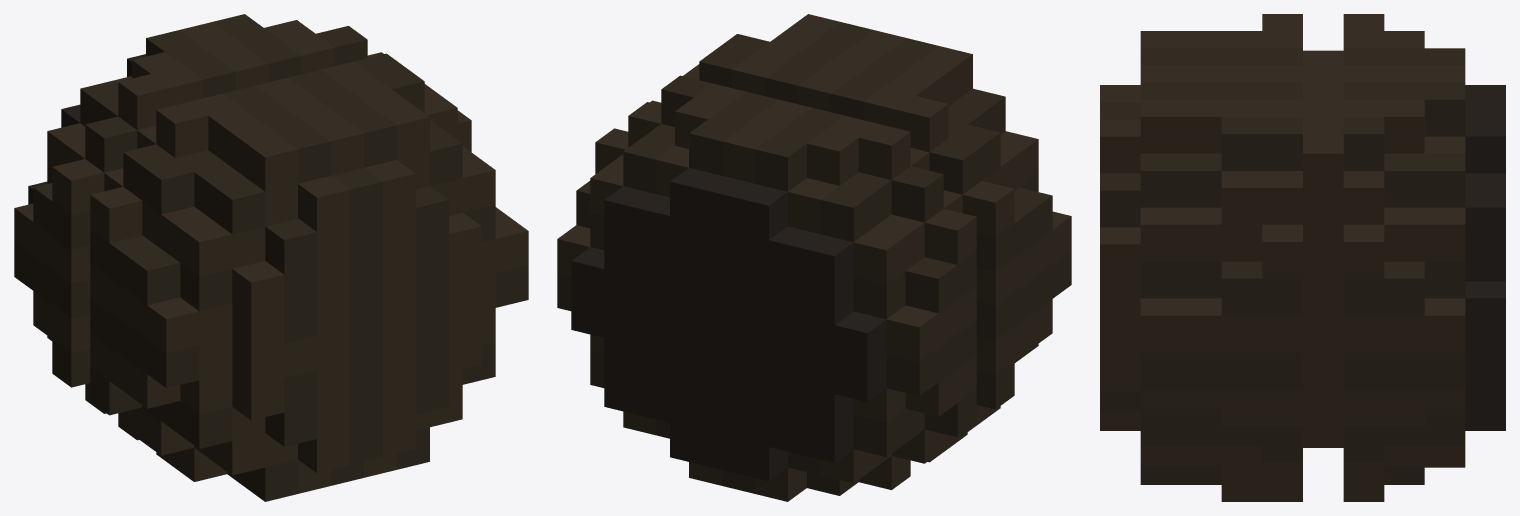
Rendered from tavern-18-keg.obj.
3 renders of one model, left to right at view 1: azimuth 30°, elevation 25°; view 2: azimuth 150°, elevation 25°; view 3: azimuth 270°, elevation 25°, orthographic. The views are drawn at different scales.
Parts seen in each view (by area): view 1: keg; view 2: keg; view 3: keg.
Boxes of the visible parts, bbox=[...] form: keg: bbox=[14, 14, 528, 501]; keg: bbox=[557, 14, 1071, 501]; keg: bbox=[1100, 14, 1505, 501].
Bounding box in the file's own units: 1.1 × 1 × 1.
Materials: 1 (1 with a texture image).
